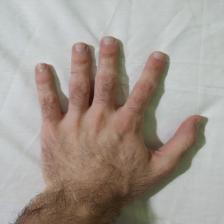five: (30, 34, 206, 205)
